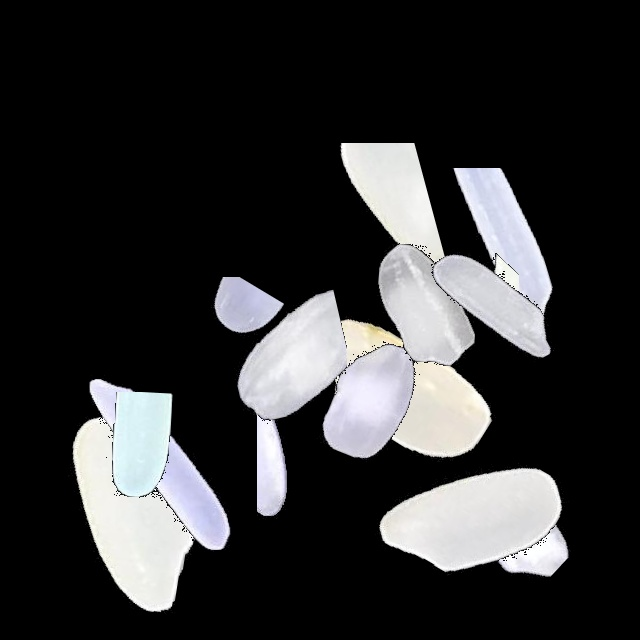Broken: (406, 384, 580, 634), (173, 238, 347, 488), (336, 168, 586, 326), (14, 392, 264, 529), (237, 143, 487, 277), (257, 333, 374, 583), (100, 277, 350, 391), (438, 167, 519, 417)
Full: (274, 265, 524, 515), (4, 388, 254, 638), (33, 338, 283, 588), (244, 275, 494, 525), (348, 386, 598, 636), (300, 178, 550, 428), (370, 182, 620, 432)
